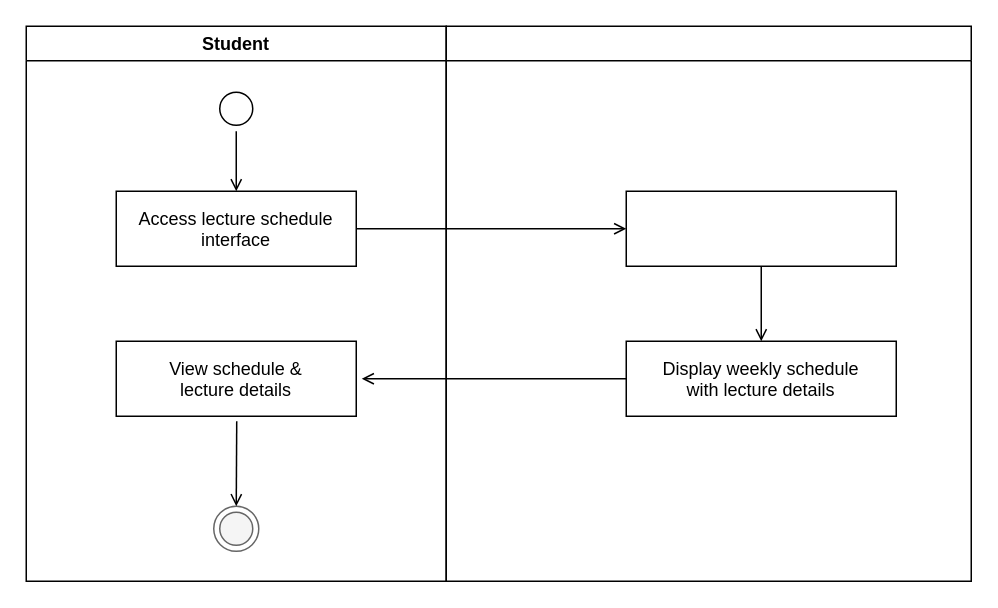
This 998x608 diagram has some shape labels left out. Each missing label, with the box of its shape:
Load student's registered modules & lecture schedules: (625, 190, 896, 266)
Student Enrollment & Evaluation System: (445, 25, 971, 581)
